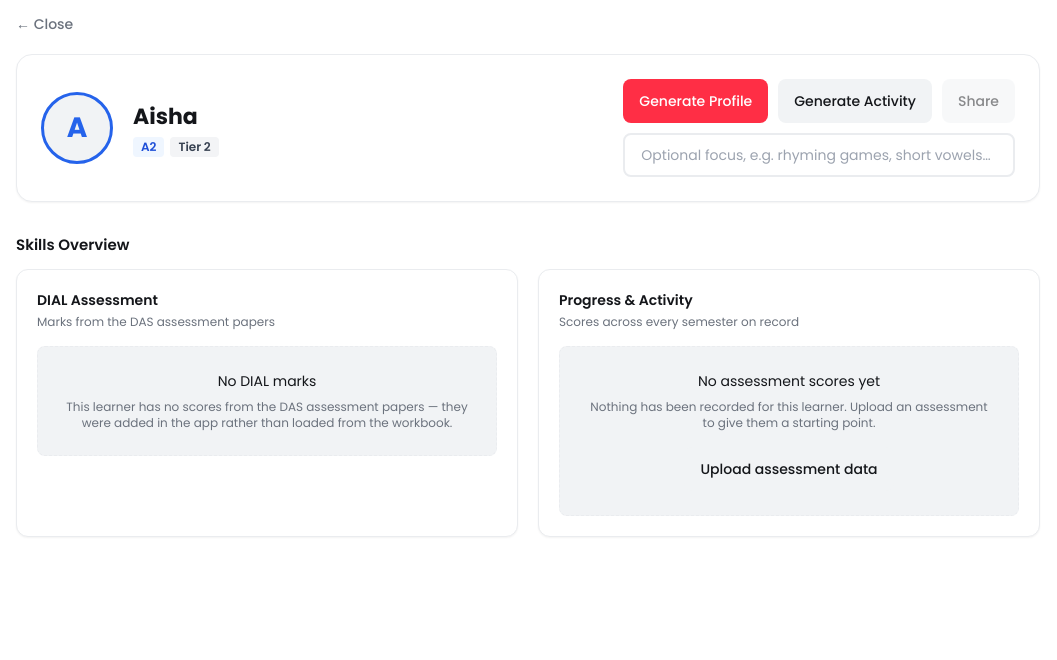
Test: surfaces a failed request separately from a refusal
Click the button "Generate Activity".
click(855, 101)  # box top-left (778, 79), bottom-right (932, 123)
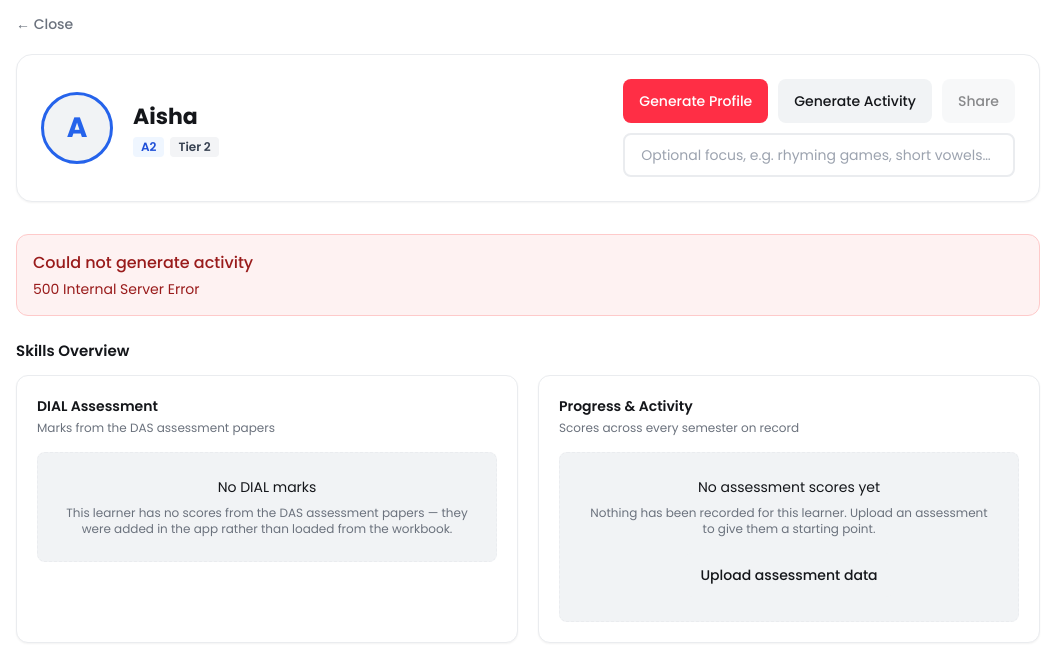
expect the text "Could not generate activity" is shown: met, box top-left (33, 251), bottom-right (253, 274)
expect the text "500 Internal Server Error" is shown: met, box top-left (33, 279), bottom-right (200, 299)
